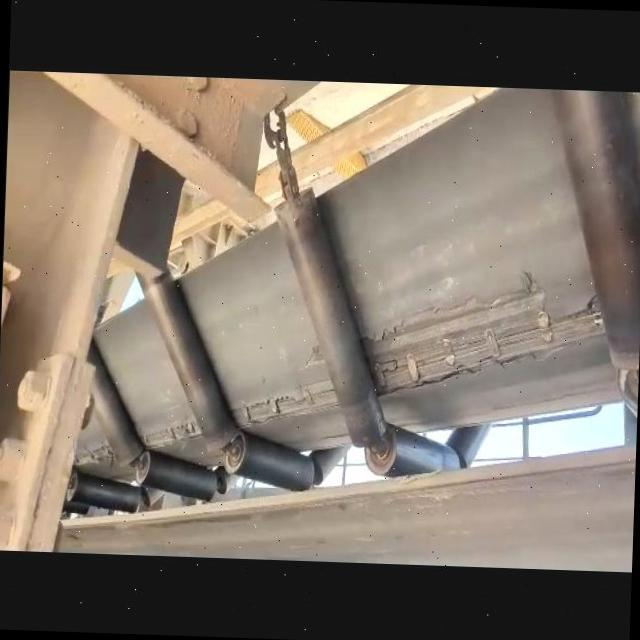Tear: (361, 283, 618, 410), (230, 374, 338, 437)
